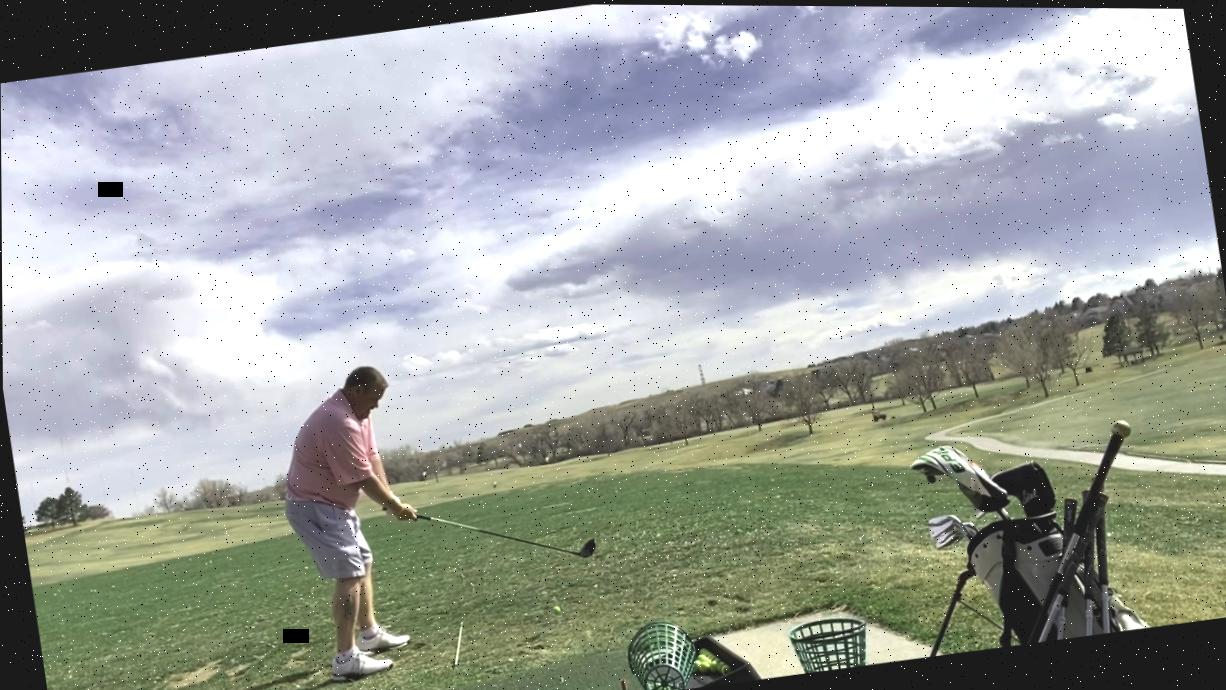ClubHead: (565, 536, 602, 565)
GolfBall: (549, 602, 565, 617)
